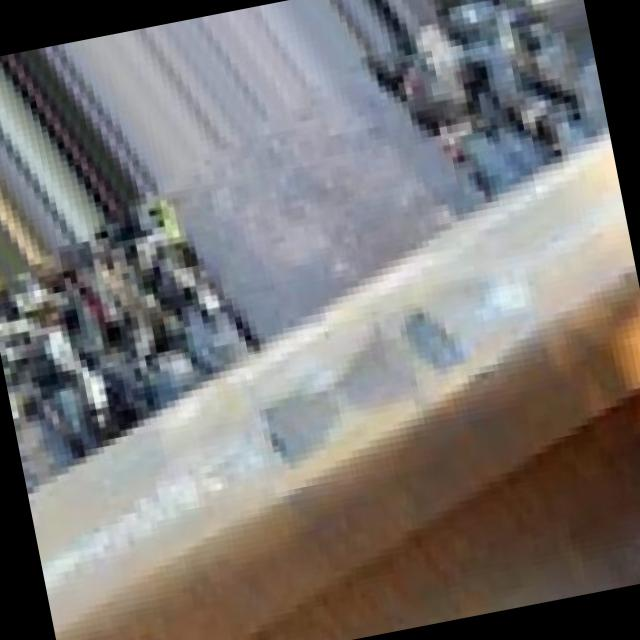defective: (170, 239, 632, 596)
